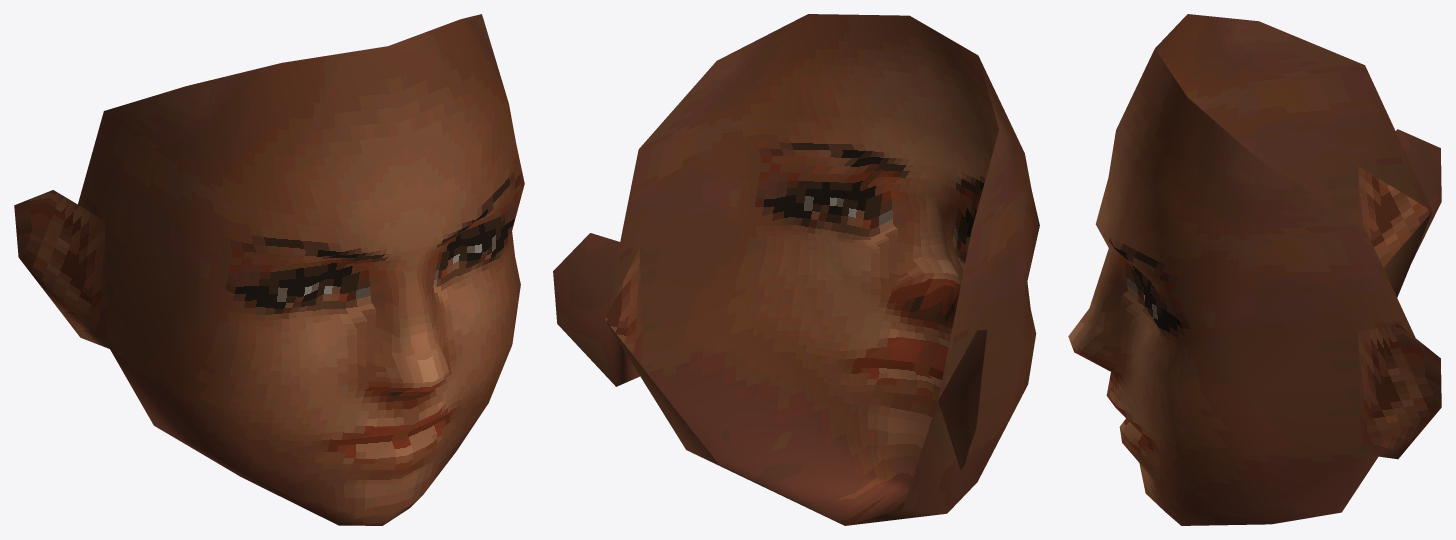
The picture shows the model from 3 angles, left to right: view 1: azimuth 30°, elevation 25°; view 2: azimuth 150°, elevation 25°; view 3: azimuth 270°, elevation 25°; orthographic projection. The views are drawn at different scales.
Bounding box in the file's own units: 19.4 × 20.02 × 14.57.
1 material, 1 textured.
